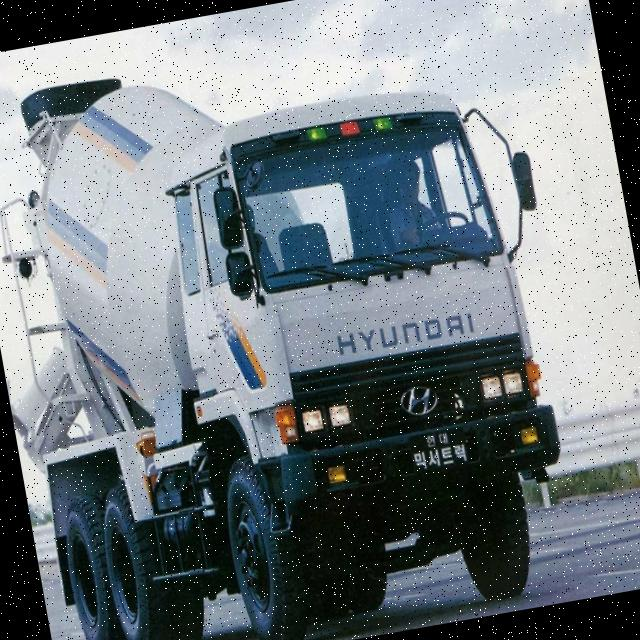Mixer Truck: (0, 11, 585, 640)
